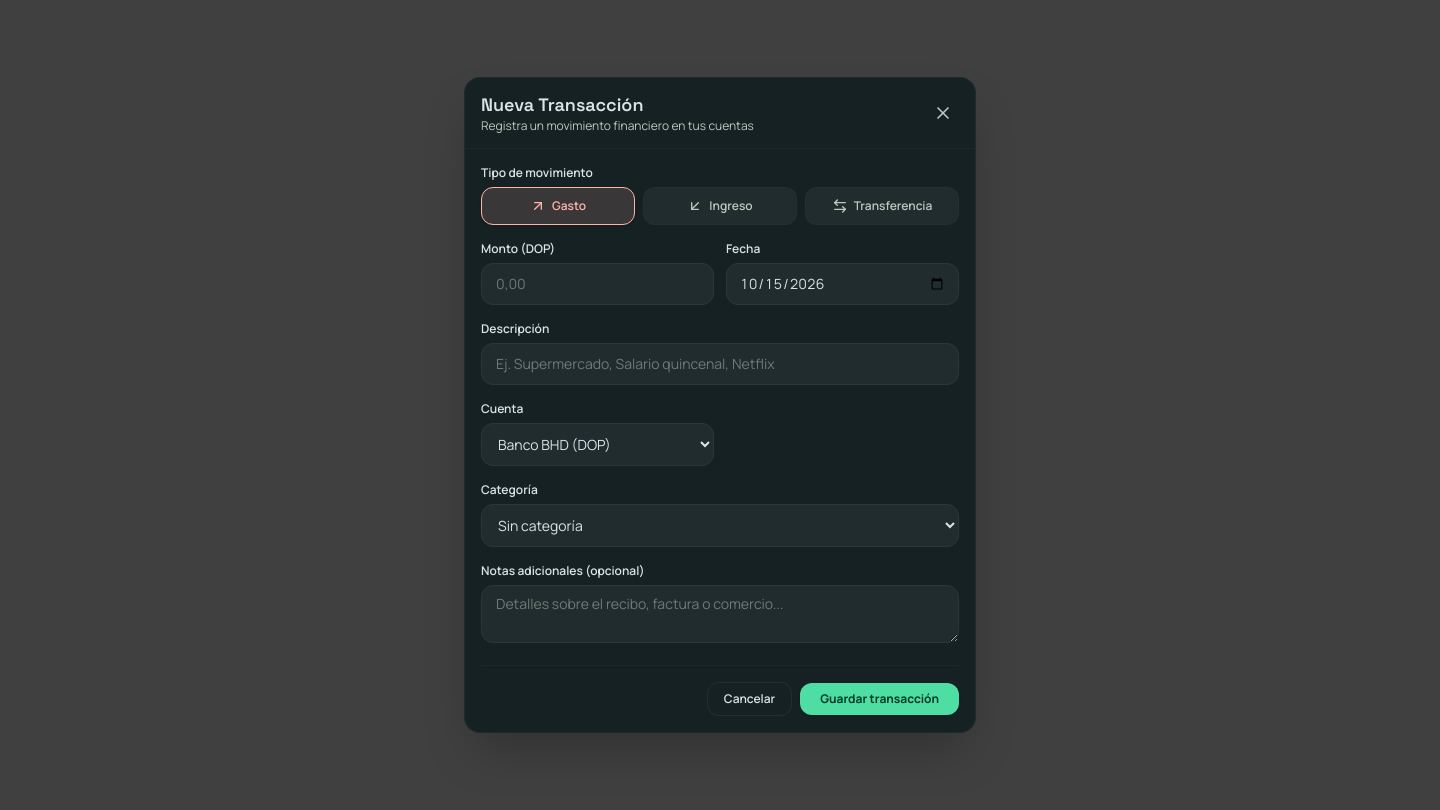
Test: TransactionFormModal › autocategorizes expense when typing matching keyword in description
The image size is (1440, 810).
Step 1. Type "Cena pizza con amigos" into the field labelled "Descripción" → x=720, y=364, box [481,343,959,385]
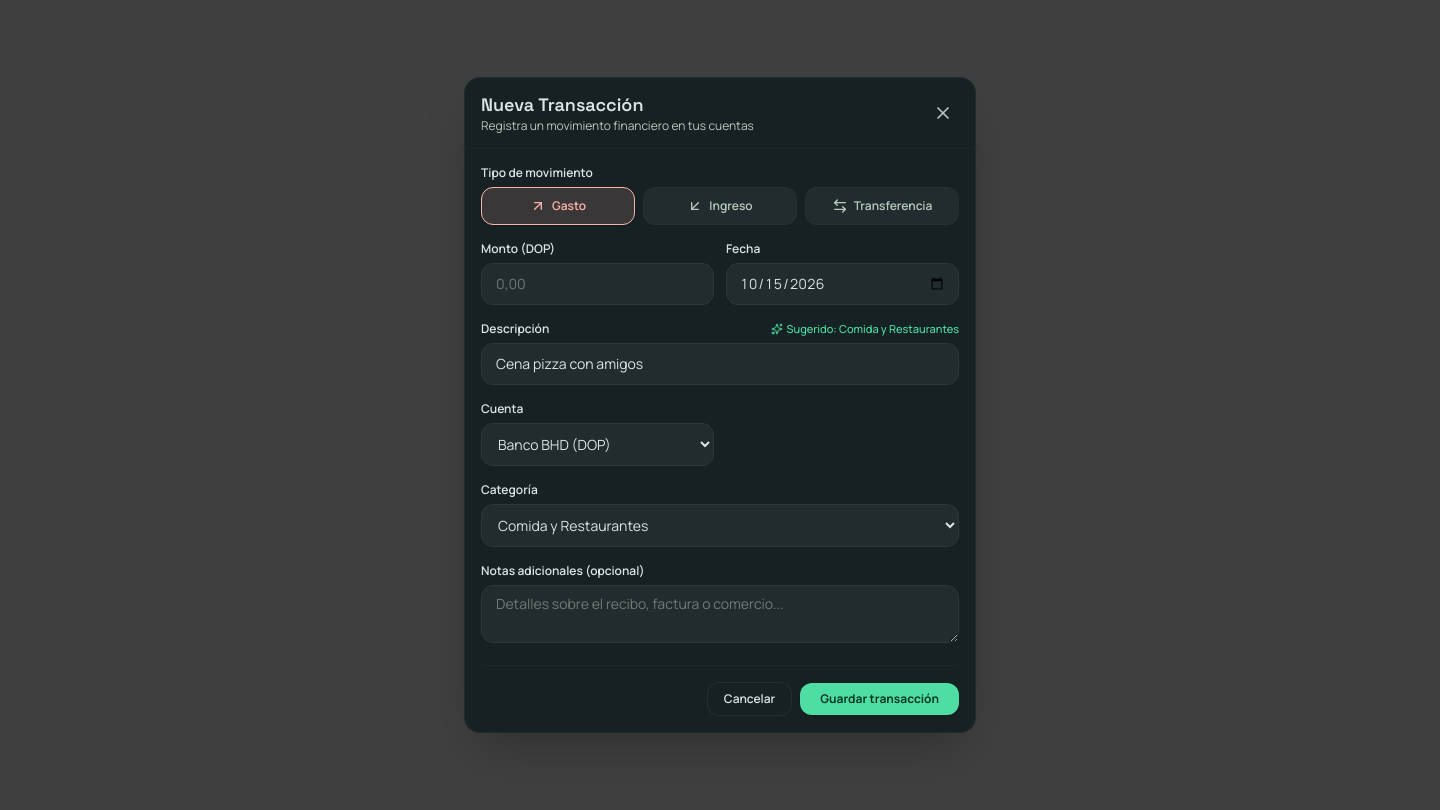
Expected: the dropdown labelled "Categoría" shows "Comida y Restaurantes", [481,504,959,547]
